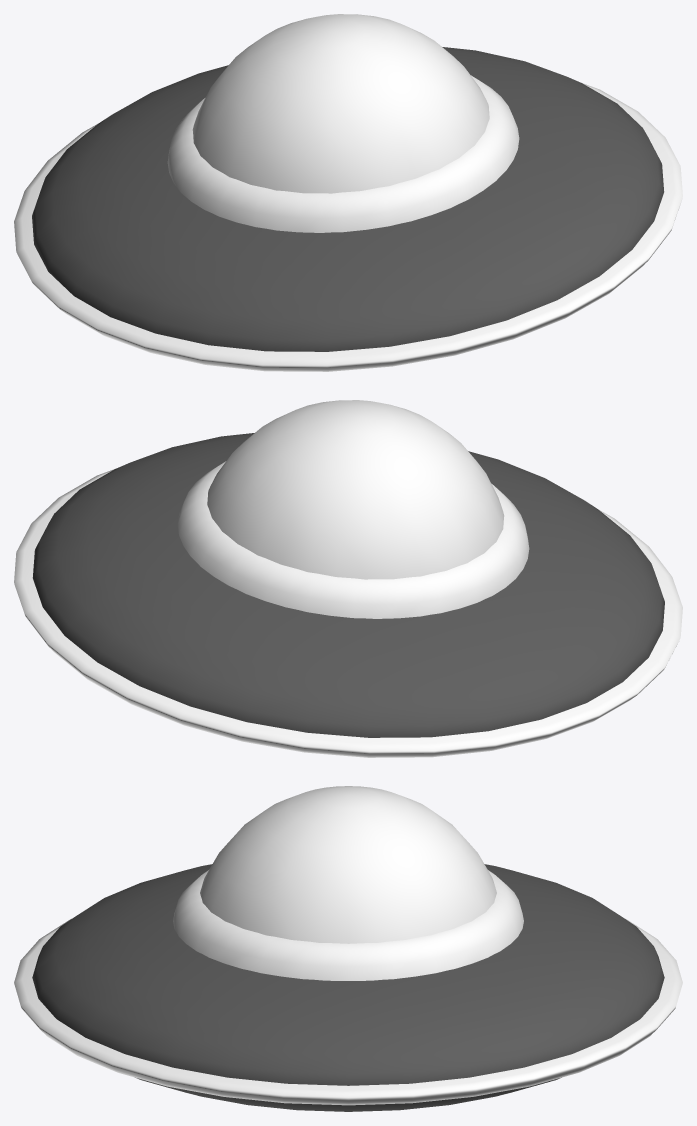
Rendered from compressed_1730913512606_ufo_fit2.glb.
3 views of the same model, one above another, from view 1: azimuth 30°, elevation 25°; view 2: azimuth 150°, elevation 25°; view 3: azimuth 270°, elevation 25° (orthographic).
Parts seen in each view (by area): view 1: ufo; view 2: ufo; view 3: ufo.
Boxes of the visible parts, x1,y1,x2,y2 form: ufo: [14, 14, 682, 371]; ufo: [14, 400, 682, 757]; ufo: [14, 786, 682, 1111].
Bounding box in the file's own units: 0.1072 × 0.0448 × 0.1076.
Materials: 2 (2 with a texture image).
